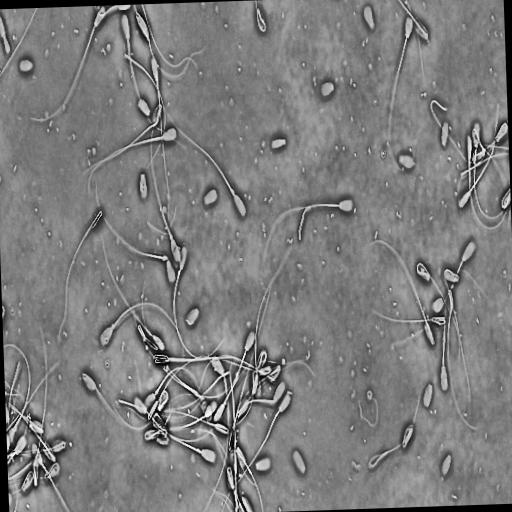coiled-tail: (0, 13, 11, 54), (157, 389, 168, 411), (402, 424, 412, 448), (2, 34, 10, 52)
folded-tail: (370, 239, 434, 342), (83, 106, 160, 173), (62, 209, 102, 324), (457, 120, 508, 193), (444, 267, 470, 400), (417, 263, 456, 328), (373, 311, 445, 322)
loose-head: (291, 447, 307, 475), (439, 451, 452, 481), (184, 305, 200, 329), (361, 1, 374, 30), (201, 185, 218, 207), (318, 78, 335, 99), (254, 454, 272, 473), (135, 96, 151, 117), (138, 170, 148, 201), (17, 56, 33, 75), (422, 382, 433, 409), (269, 135, 287, 151), (440, 117, 449, 148)
loose-tail: (122, 50, 167, 172), (427, 96, 472, 166)
normal: (157, 100, 247, 218), (24, 5, 107, 125), (391, 238, 475, 347), (220, 390, 292, 512), (95, 181, 178, 285), (118, 12, 182, 143), (364, 235, 435, 347), (165, 328, 255, 405), (439, 267, 493, 393), (252, 239, 295, 397), (86, 126, 178, 197), (172, 242, 227, 360), (80, 102, 162, 177), (261, 197, 354, 263), (99, 301, 186, 370), (134, 9, 208, 82), (149, 105, 182, 263), (385, 12, 415, 183), (61, 207, 104, 326), (457, 99, 500, 211), (414, 259, 461, 361), (80, 367, 151, 431), (202, 352, 230, 512), (456, 119, 508, 196), (442, 266, 470, 401), (148, 55, 170, 223), (31, 312, 48, 487), (368, 422, 416, 469), (161, 428, 217, 466), (369, 306, 446, 328)
proximal-droplet: (161, 255, 167, 260), (168, 233, 172, 240), (231, 189, 234, 195), (178, 269, 180, 274)
